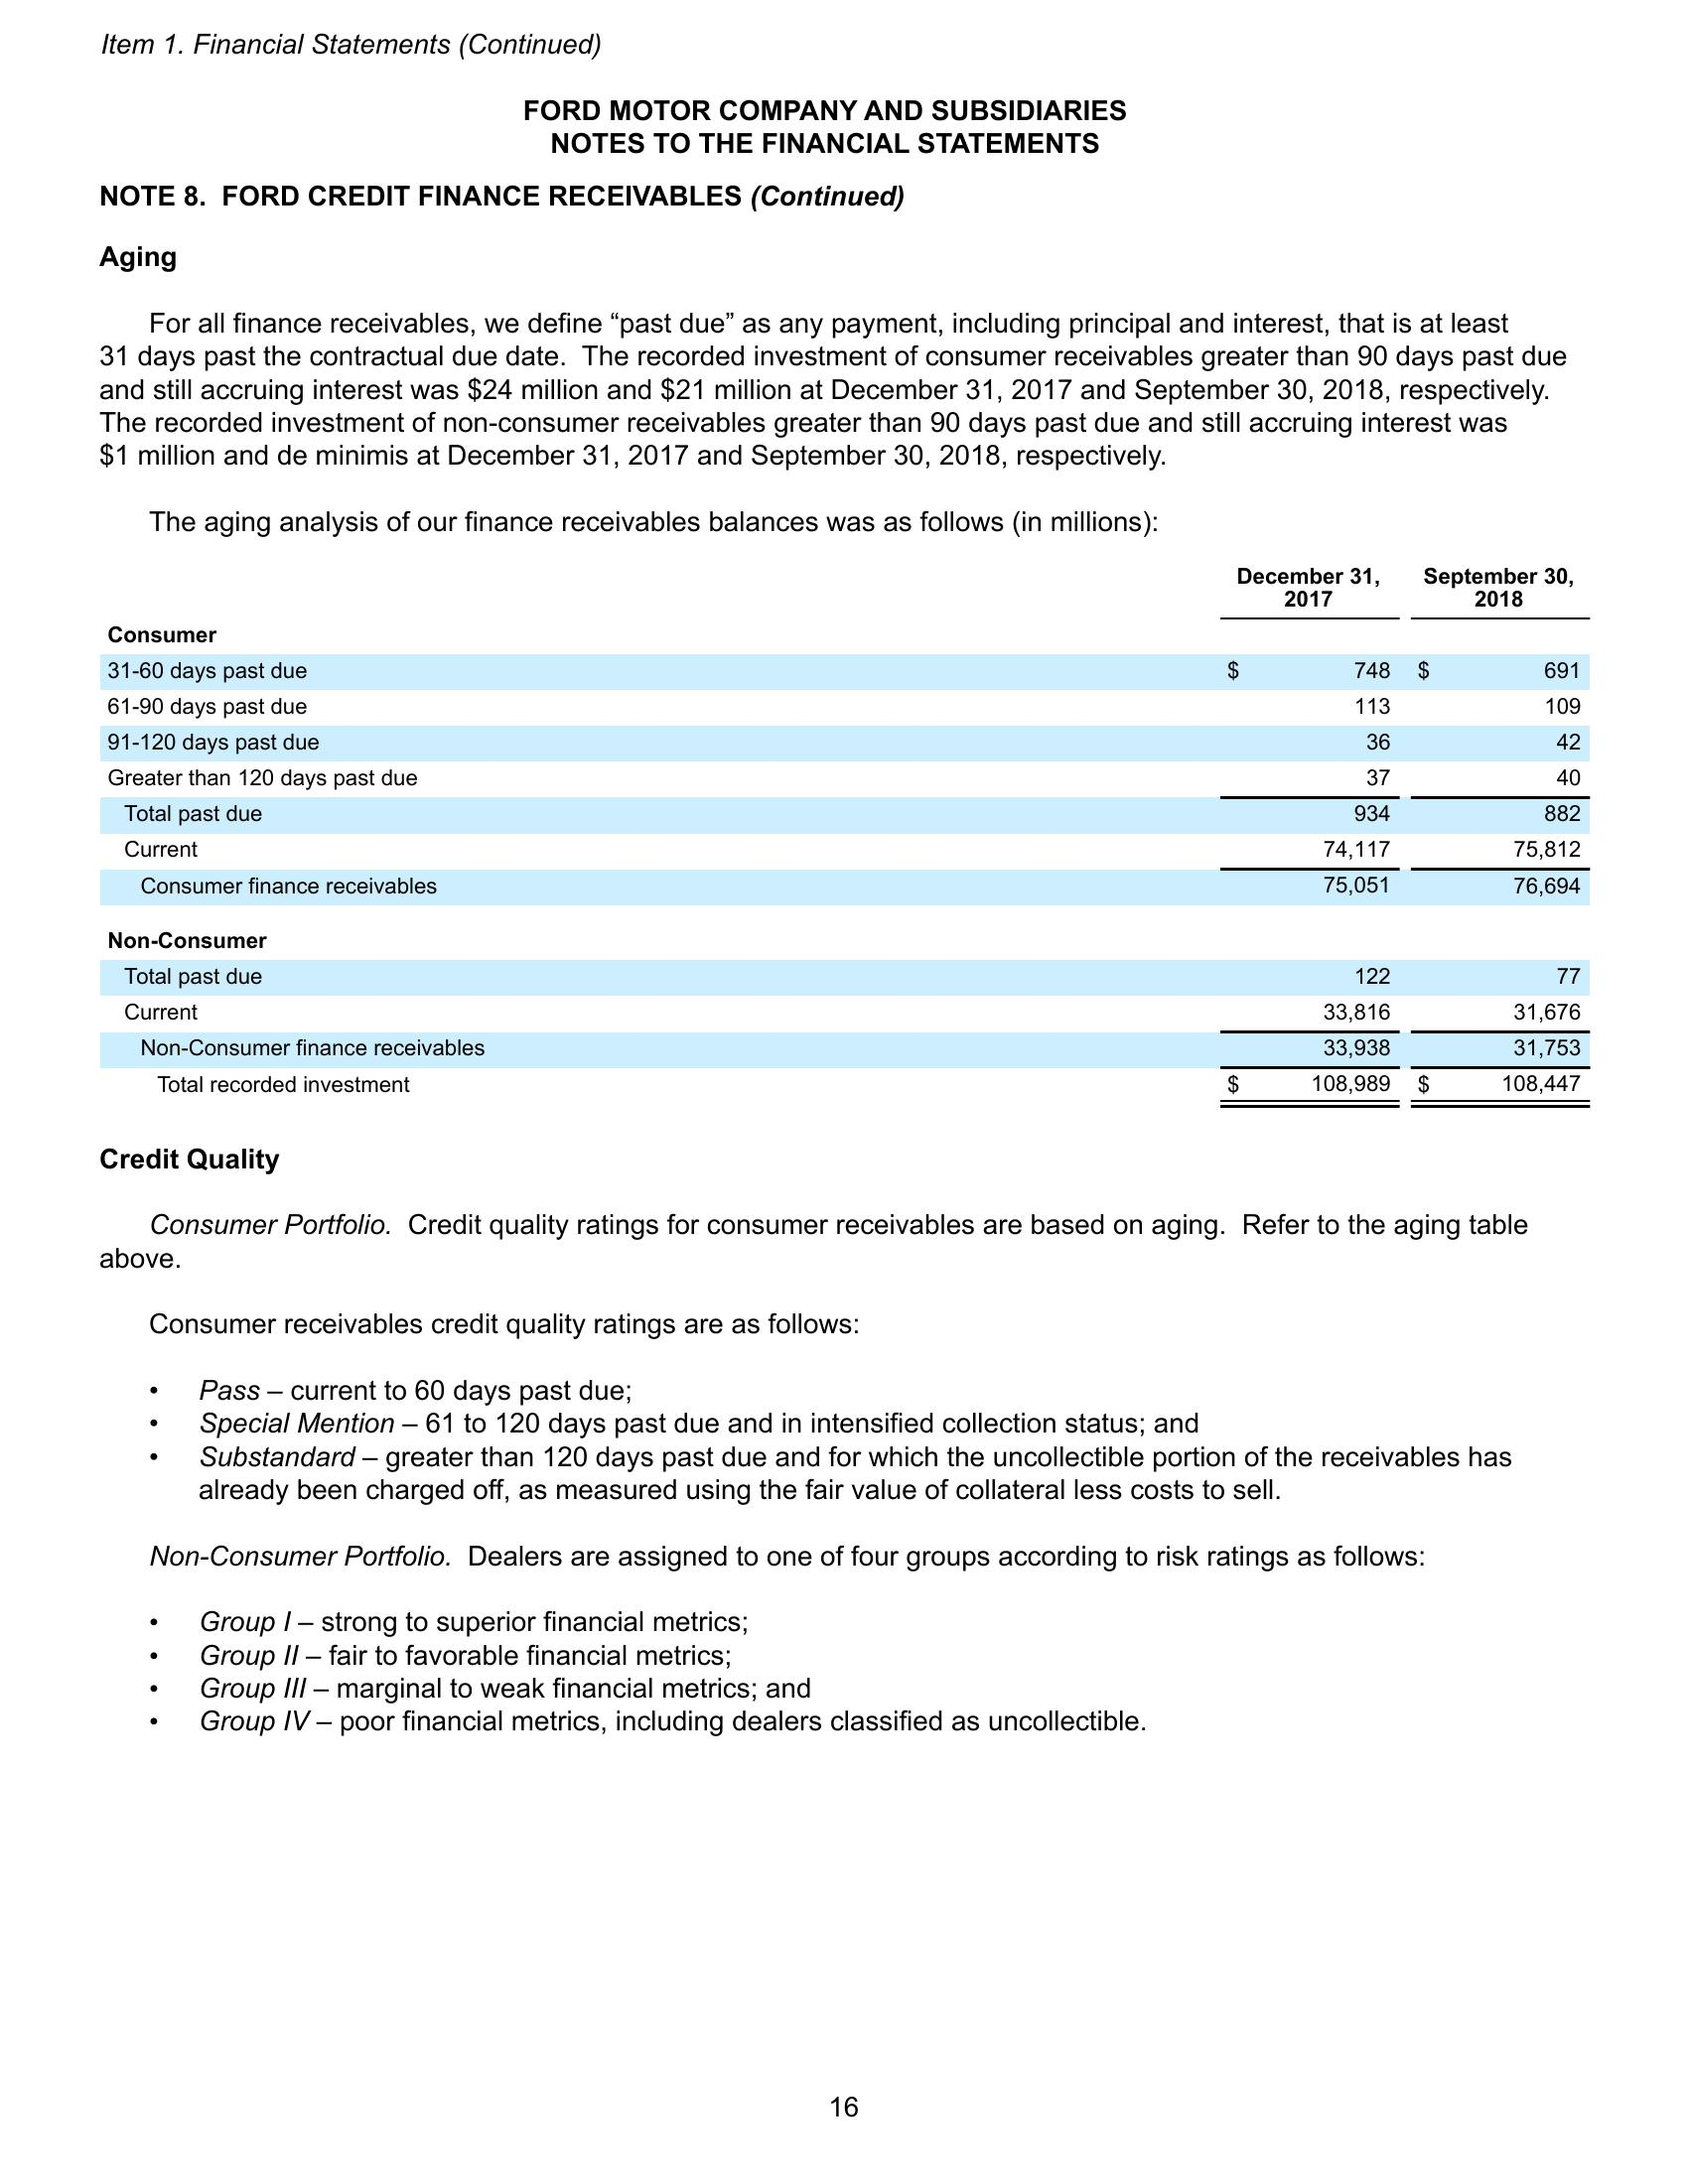table: (94, 550, 1610, 1115)
